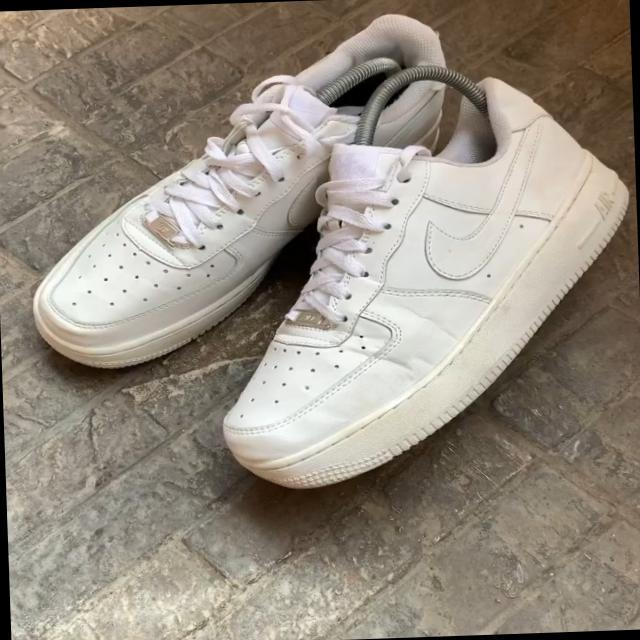nike fake air force: (202, 60, 640, 494), (9, 22, 466, 376)
